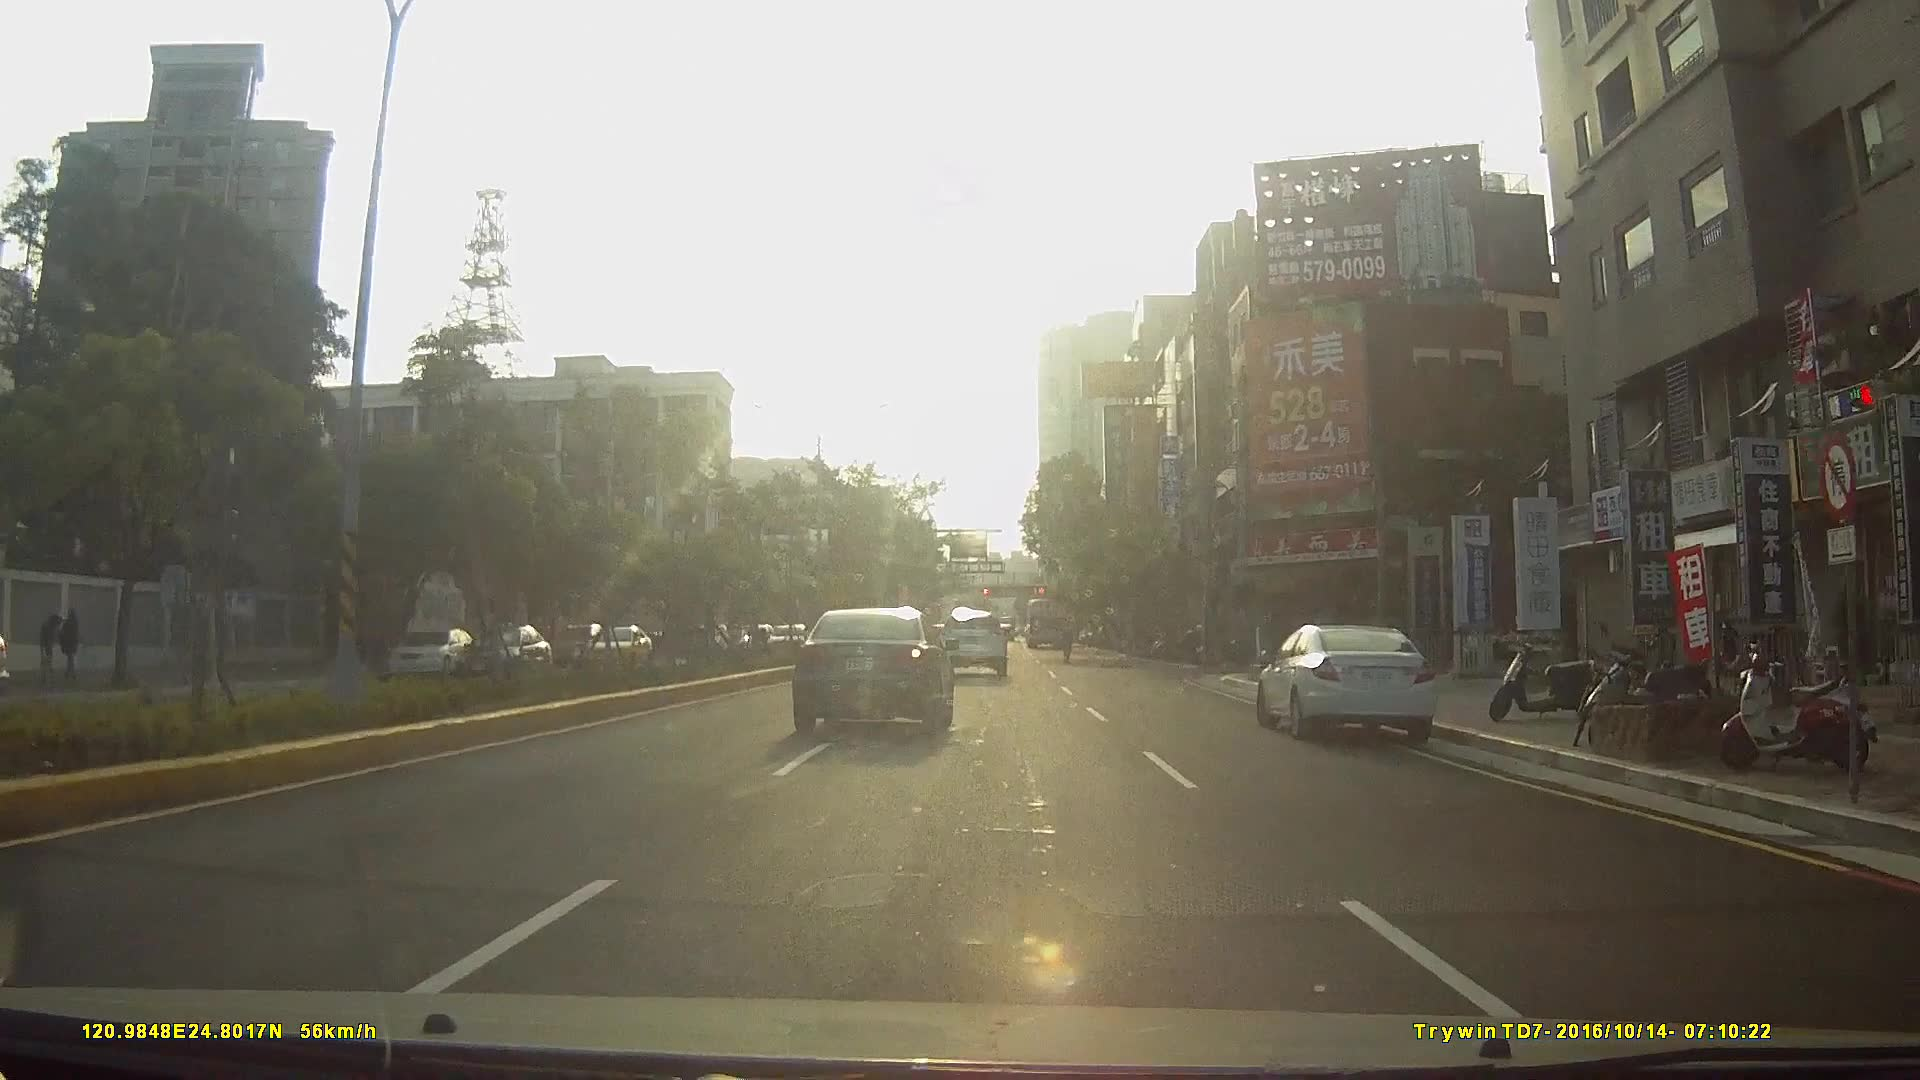pedestrian: (40, 613, 64, 681), (61, 607, 83, 681)
vehicle: (1259, 619, 1446, 747), (789, 603, 955, 735), (452, 620, 560, 693), (376, 625, 470, 680), (936, 605, 1008, 676), (576, 622, 655, 674), (455, 623, 527, 670), (1021, 595, 1066, 651), (762, 620, 812, 658)
